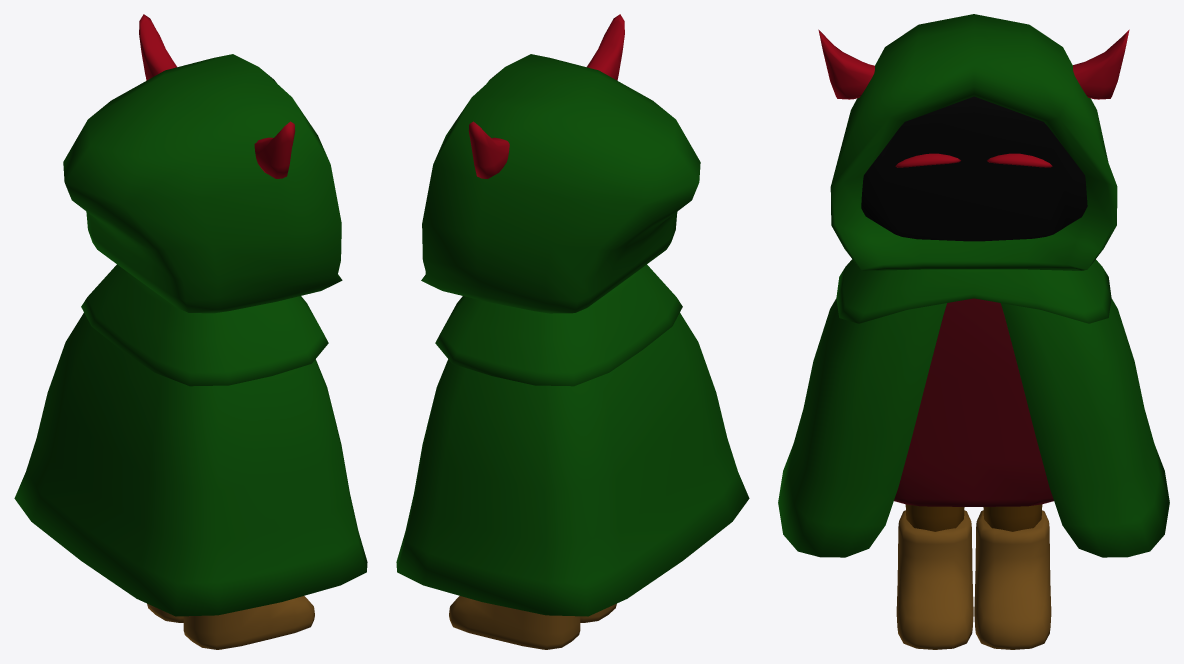
The model's file is merchant.fbx.
3 renders of one model, left to right at view 1: azimuth 30°, elevation 25°; view 2: azimuth 150°, elevation 25°; view 3: azimuth 270°, elevation 25°, orthographic. The views are drawn at different scales.
Visible parts, largest first — view 1: Bottom Cape, Head, Top Cape, Boots, Ears, Ears2; view 2: Bottom Cape, Head, Top Cape, Boots, Ears2, Ears; view 3: Bottom Cape, Head, Face, Body, Boots, Top Cape, Legs, Ears2, Ears, Eyes.
Boxes of the visible parts, left/top/right/bottom form: Bottom Cape: left=14, top=313, right=367, bottom=616; Head: left=63, top=54, right=342, bottom=313; Top Cape: left=81, top=264, right=328, bottom=386; Boots: left=147, top=596, right=314, bottom=649; Ears: left=254, top=121, right=295, bottom=178; Ears2: left=139, top=14, right=176, bottom=80; Bottom Cape: left=396, top=313, right=749, bottom=616; Head: left=421, top=54, right=700, bottom=313; Top Cape: left=435, top=264, right=682, bottom=386; Boots: left=449, top=596, right=616, bottom=649; Ears2: left=468, top=121, right=509, bottom=178; Ears: left=587, top=14, right=624, bottom=80; Bottom Cape: left=778, top=298, right=1169, bottom=557; Head: left=830, top=14, right=1117, bottom=270; Face: left=861, top=96, right=1087, bottom=241; Body: left=894, top=298, right=1053, bottom=506; Boots: left=896, top=510, right=1051, bottom=649; Top Cape: left=836, top=259, right=1111, bottom=323; Legs: left=905, top=504, right=1042, bottom=531; Ears2: left=1073, top=29, right=1129, bottom=99; Ears: left=818, top=29, right=874, bottom=99; Eyes: left=895, top=153, right=1052, bottom=167.
Bounding box in the file's own units: 252 × 571 × 346.
